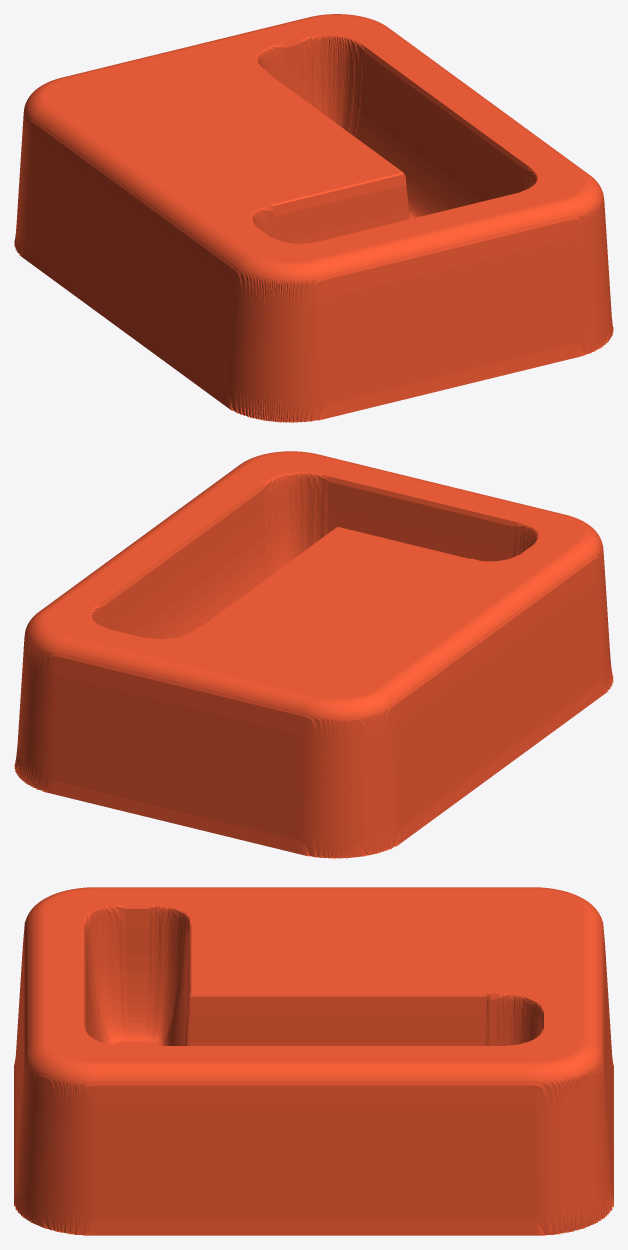
The model's file is mold.glb.
3 renders of one model, top to bottom at view 1: azimuth 30°, elevation 25°; view 2: azimuth 150°, elevation 25°; view 3: azimuth 270°, elevation 25°, orthographic. The views are drawn at different scales.
Visible parts, largest first — view 1: geometry_0; view 2: geometry_0; view 3: geometry_0.
Part boxes in pixels (x1,y1,x2,y2): geometry_0: [14, 14, 613, 422]; geometry_0: [14, 451, 613, 858]; geometry_0: [14, 887, 613, 1235].
Size of the model in its own units: 0.0528 by 0.0197 by 0.067.
